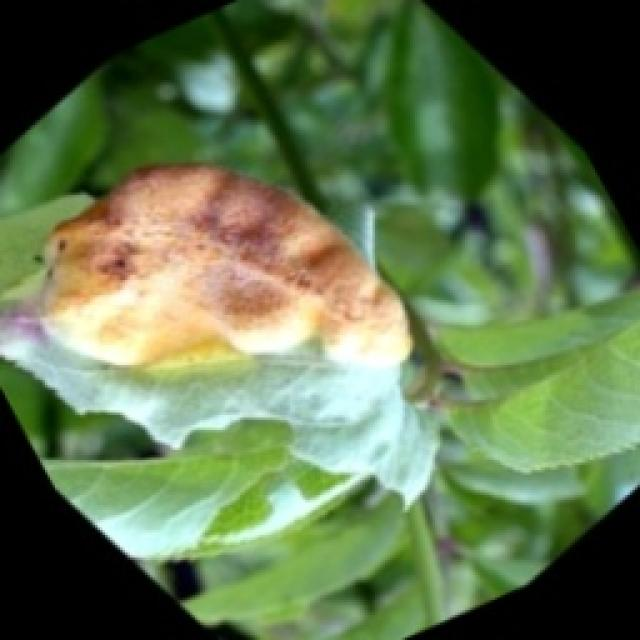Elderberry_rust: (33, 157, 415, 375)
